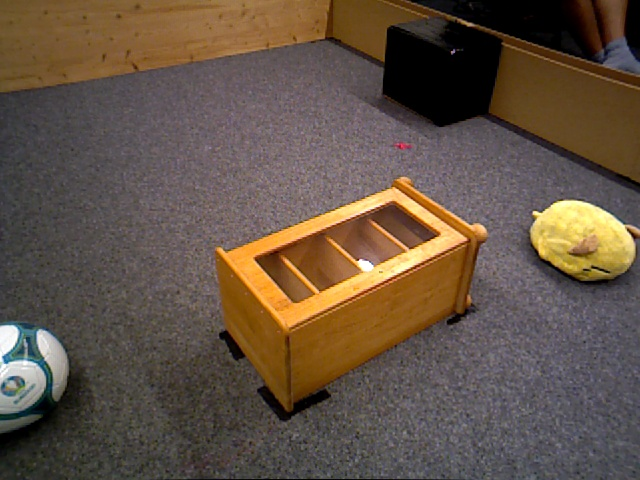grasp: (529, 199, 636, 286)
kick: (1, 323, 69, 436)
push: (385, 23, 502, 124)
